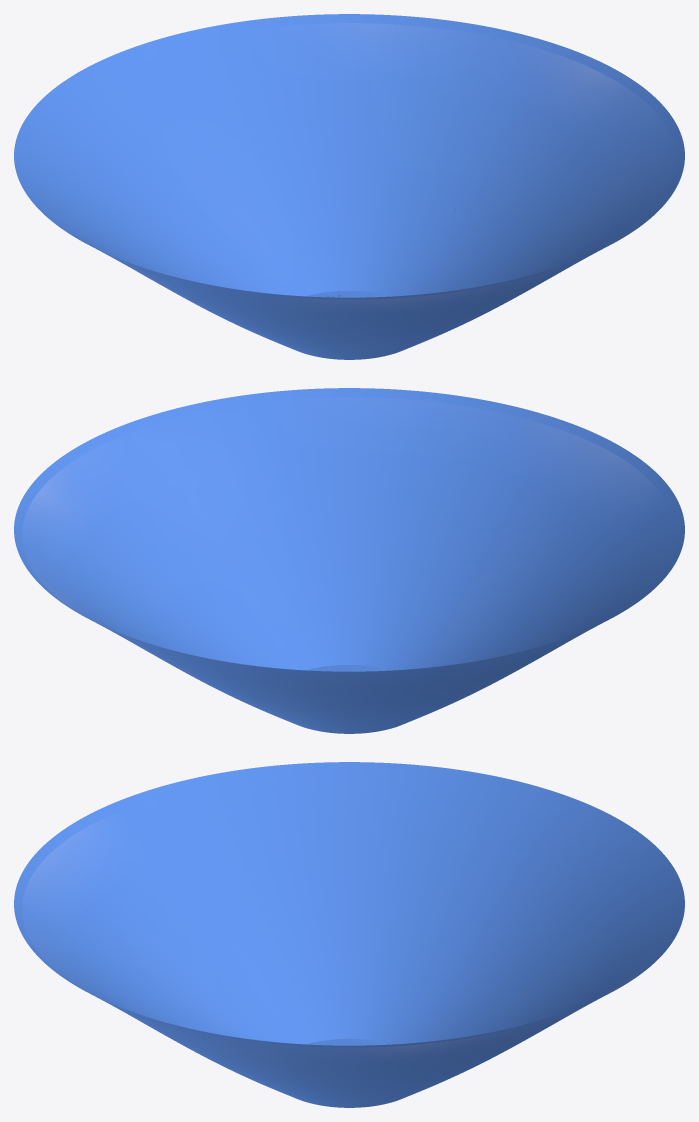
File: bowl.fbx
3 renders of one model, top to bottom at view 1: azimuth 30°, elevation 25°; view 2: azimuth 150°, elevation 25°; view 3: azimuth 270°, elevation 25°, orthographic.
Visible parts, largest first — view 1: Cylinder; view 2: Cylinder; view 3: Cylinder.
Boxes of the visible parts, x1,y1,x2,y2 form: Cylinder: [14, 14, 684, 359]; Cylinder: [14, 388, 684, 733]; Cylinder: [14, 762, 684, 1107].
Size of the model in its own units: 883 by 250 by 883.
Materials: 1 (1 with a texture image).
